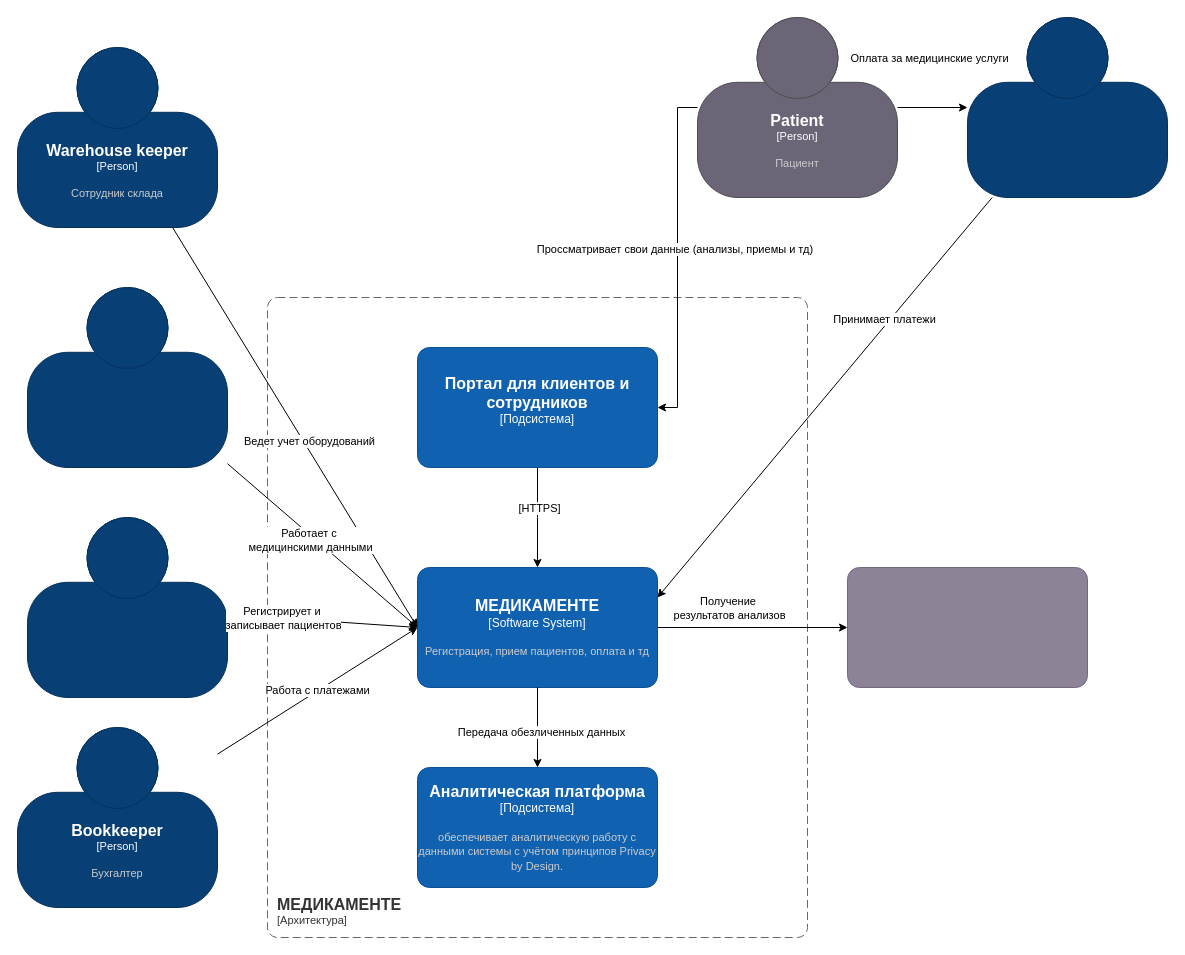
Some shapes in this 1185 by 955 pixel diagram are drawn without their labels. The centre of each missing label's shape, as x and y in pixels:
"Administrator [Person] Сотрудник ресепшена" belongs at [127,607].
"Cassier [Person] Кассир" belongs at [1067,107].
"Doctor [Person] Специалист-медик" belongs at [127,377].
"Laboratory Registry [Software System]" belongs at [967,627].
